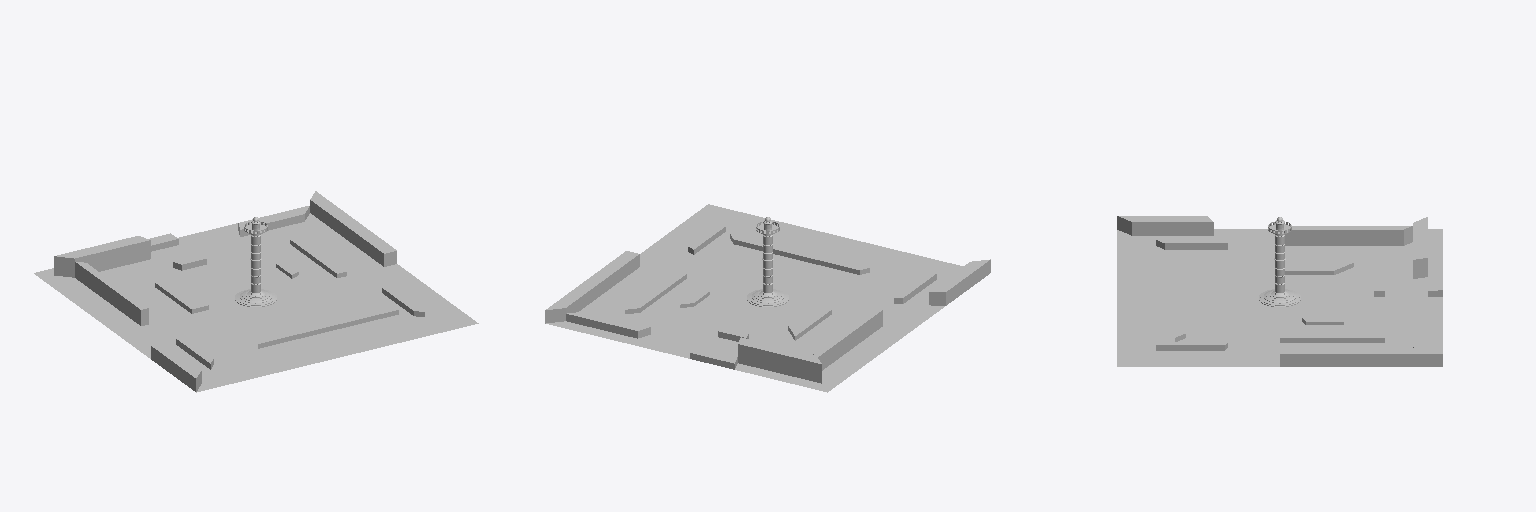
Rendered from cgmodel2.obj.
3 views of the same model, side by side, from view 1: azimuth 30°, elevation 25°; view 2: azimuth 150°, elevation 25°; view 3: azimuth 270°, elevation 25° (orthographic).
Parts seen in each view (by area): view 1: Plane, Circle; view 2: Plane, Circle; view 3: Plane, Circle.
Boxes of the visible parts, x1=… form: Plane: x1=34, y1=191, x2=478, y2=392; Circle: x1=235, y1=217, x2=276, y2=306; Plane: x1=545, y1=204, x2=990, y2=392; Circle: x1=747, y1=217, x2=788, y2=306; Plane: x1=1117, y1=216, x2=1442, y2=366; Circle: x1=1259, y1=217, x2=1300, y2=306.
Size of the model in its own units: 355 by 102 by 355.